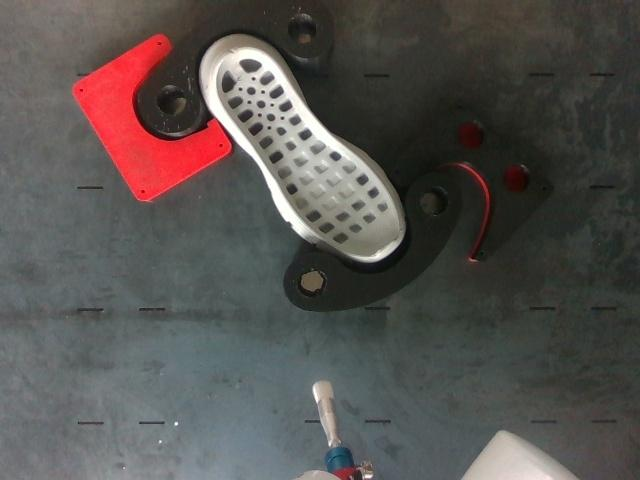shoes: (215, 47, 400, 257)
